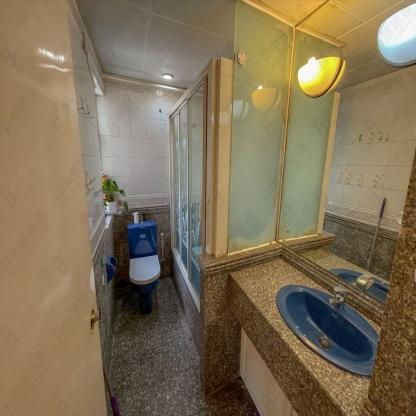Faucet: (328, 285, 346, 307)
Toilet: (129, 220, 161, 313)
Toilet Sink: (276, 284, 379, 375)
Water Cubicle: (167, 56, 233, 311)
